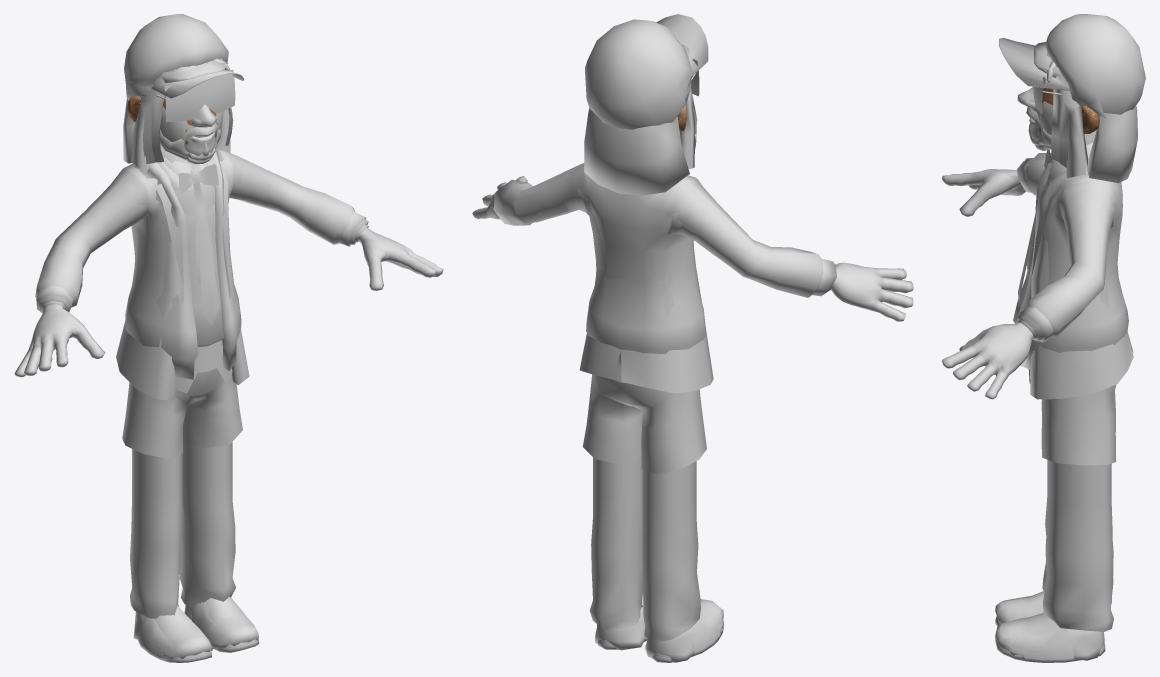
Rendered from head.fbx.
3 views of the same model, side by side, from view 1: azimuth 30°, elevation 25°; view 2: azimuth 150°, elevation 25°; view 3: azimuth 270°, elevation 25° (orthographic). The views are drawn at different scales.
Parts seen in each view (by area): view 1: TPMSweater, TPMLegsL, TPMSuit, TPMShirtAL, TPMLegsS, TPMHairF, TPMFeetB, TPMHairE, Glasses, TPMFeetA, TPMTieL, HEADsimple (+5 smaller); view 2: TPMSweater, TPMLegsL, TPMSuit, TPMHairF, TPMLegsS, TPMHairE, TPMShirtAL, TPMFeetB, TPMHatB, TPMFeetA; view 3: TPMSweater, TPMLegsL, TPMSuit, TPMHairF, TPMShirtAL, TPMHairE, TPMLegsS, TPMFeetB, TPMFeetA, TPMHatB, HEADsimple, HEAD (+3 smaller).
Boxes of the visible parts, <box> form: TPMSweater: <box>35,149,368,379</box>; TPMLegsL: <box>130,368,235,618</box>; TPMSuit: <box>36,149,366,400</box>; TPMShirtAL: <box>14,157,443,377</box>; TPMLegsS: <box>122,374,242,458</box>; TPMHairF: <box>124,14,228,100</box>; TPMFeetB: <box>133,596,258,660</box>; TPMHairE: <box>123,59,233,173</box>; Glasses: <box>156,69,235,122</box>; TPMFeetA: <box>137,598,259,662</box>; TPMTieL: <box>190,168,219,326</box>; HEADsimple: <box>127,97,223,155</box>; TPMSweater: <box>493,163,836,367</box>; TPMLegsL: <box>589,414,700,642</box>; TPMSuit: <box>494,163,834,393</box>; TPMHairF: <box>585,19,692,129</box>; TPMLegsS: <box>582,374,706,474</box>; TPMHairE: <box>584,88,697,195</box>; TPMShirtAL: <box>472,176,913,321</box>; TPMFeetB: <box>594,594,723,662</box>; TPMHatB: <box>656,14,708,76</box>; TPMFeetA: <box>598,603,723,662</box>; TPMSweater: <box>1013,153,1128,369</box>; TPMLegsL: <box>1042,459,1113,631</box>; TPMSuit: <box>1019,158,1133,399</box>; TPMHairF: <box>1045,14,1145,130</box>; TPMShirtAL: <box>942,141,1088,399</box>; TPMHairE: <box>1051,60,1137,183</box>; TPMLegsS: <box>1041,385,1116,465</box>; TPMFeetB: <box>995,591,1104,662</box>; TPMFeetA: <box>995,609,1105,662</box>; TPMHatB: <box>999,38,1070,90</box>; HEADsimple: <box>1017,87,1098,139</box>; HEAD: <box>1037,88,1099,133</box>.
Bounding box in the file's own units: 123 × 169 × 50.4.
